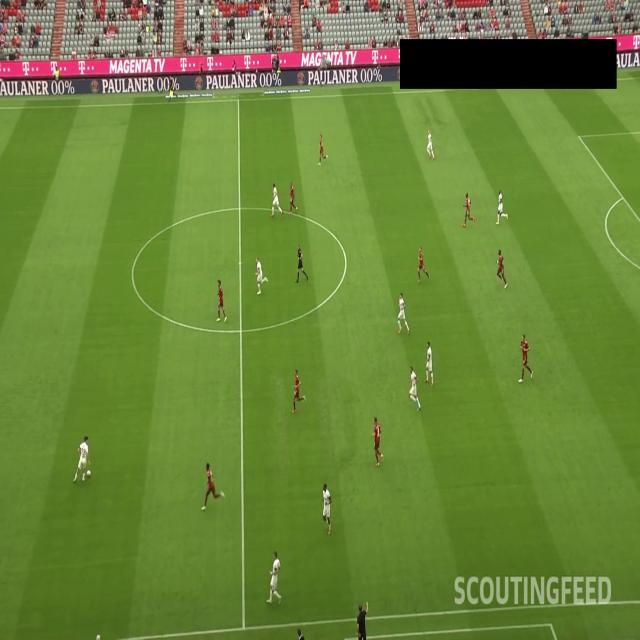ball: (85, 468, 92, 480)
player: (200, 460, 225, 513), (264, 548, 282, 606), (72, 434, 91, 484), (395, 290, 413, 336), (519, 329, 534, 384), (370, 412, 384, 469), (253, 253, 271, 295), (408, 361, 422, 415), (290, 368, 307, 412), (320, 480, 333, 535), (461, 188, 477, 229), (215, 275, 228, 324), (416, 241, 431, 283), (423, 336, 435, 387), (269, 180, 283, 220), (496, 243, 508, 289), (496, 186, 508, 225), (316, 131, 329, 166), (287, 180, 299, 214), (427, 123, 434, 161)
referee: (292, 243, 310, 284), (168, 73, 180, 104)
